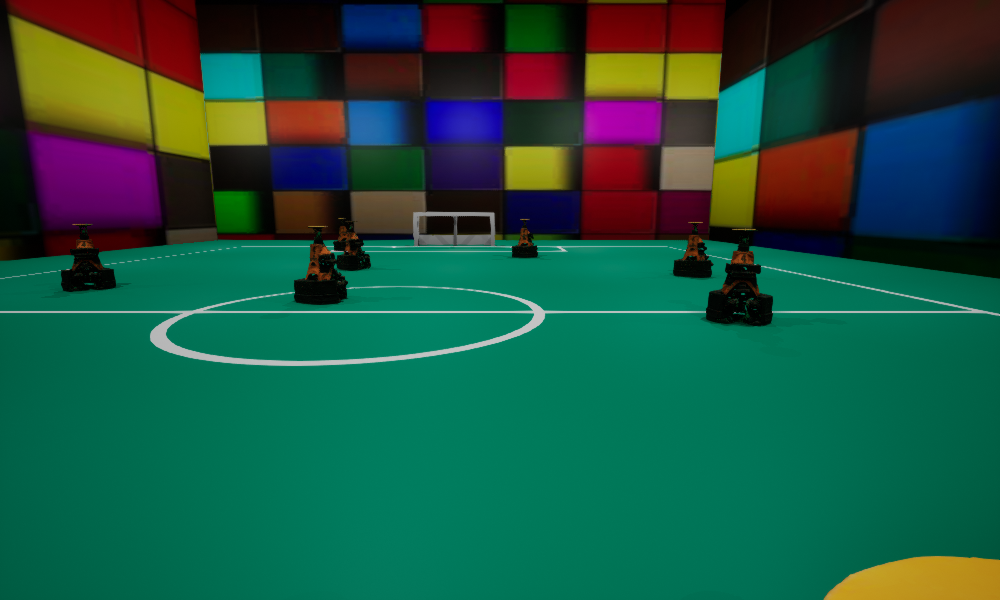0 orange robot TechUnited: (823, 556, 999, 599), (706, 229, 772, 324), (294, 226, 347, 304), (61, 224, 115, 291), (673, 222, 713, 277), (337, 221, 370, 270), (512, 219, 537, 257), (333, 218, 353, 250)
